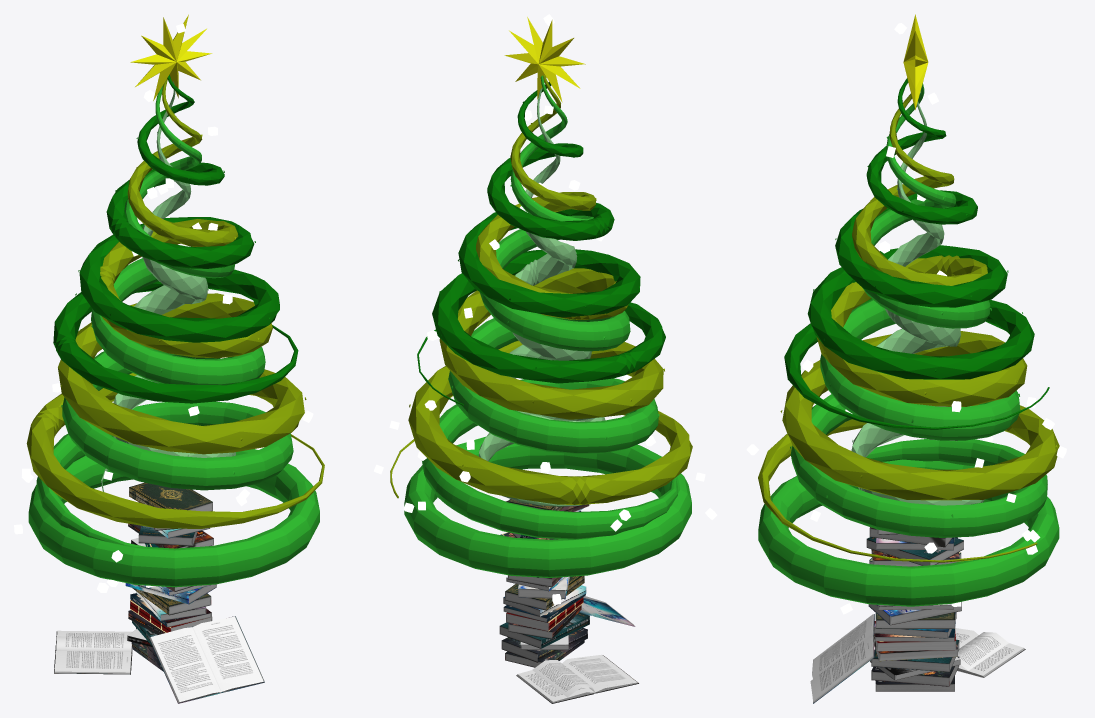
The model's file is Egle1.gltf.
3 renders of one model, left to right at view 1: azimuth 30°, elevation 25°; view 2: azimuth 150°, elevation 25°; view 3: azimuth 270°, elevation 25°, orthographic. The views are drawn at different scales.
Visible parts, largest first — view 1: jolka s igruskami.001, jolka s igruskami.002, jolka s igruskami.003, BookO1, jolka s igruskami.004, BookO2, Zvaigzde, Book9, Book10, Book18, Book11, Book5 (+2 smaller); view 2: jolka s igruskami.001, jolka s igruskami.002, jolka s igruskami.003, jolka s igruskami.004, BookO2, Zvaigzde, Book19, Book2, Book10, Book5, BookO1, Book15 (+2 smaller); view 3: jolka s igruskami.001, jolka s igruskami.002, jolka s igruskami.003, jolka s igruskami.004, BookO1, BookO2, Zvaigzde, Book18, Book19, Book2, Book11, Book10 (+7 smaller).
Boxes of the visible parts, left/top/right/bottom form: jolka s igruskami.001: left=28, top=86, right=319, bottom=587; jolka s igruskami.002: left=26, top=78, right=324, bottom=528; jolka s igruskami.003: left=53, top=74, right=298, bottom=403; BookO1: left=148, top=616, right=264, bottom=703; jolka s igruskami.004: left=101, top=81, right=235, bottom=491; BookO2: left=54, top=630, right=132, bottom=674; Zvaigzde: left=130, top=14, right=212, bottom=100; Book9: left=129, top=482, right=212, bottom=511; Book10: left=132, top=588, right=211, bottom=615; Book18: left=138, top=526, right=197, bottom=545; Book11: left=125, top=583, right=216, bottom=604; Book5: left=130, top=600, right=212, bottom=632; jolka s igruskami.001: left=404, top=75, right=691, bottom=577; jolka s igruskami.002: left=390, top=75, right=692, bottom=504; jolka s igruskami.003: left=417, top=82, right=665, bottom=405; jolka s igruskami.004: left=478, top=88, right=605, bottom=506; BookO2: left=516, top=654, right=638, bottom=703; Zvaigzde: left=504, top=17, right=585, bottom=102; Book19: left=499, top=612, right=589, bottom=648; Book2: left=501, top=628, right=587, bottom=662; Book10: left=505, top=575, right=584, bottom=610; Book5: left=506, top=597, right=583, bottom=631; BookO1: left=579, top=596, right=635, bottom=626; Book15: left=508, top=605, right=581, bottom=639; jolka s igruskami.001: left=758, top=83, right=1059, bottom=606; jolka s igruskami.002: left=758, top=93, right=1059, bottom=562; jolka s igruskami.003: left=784, top=78, right=1049, bottom=429; jolka s igruskami.004: left=851, top=101, right=984, bottom=505; BookO1: left=810, top=614, right=874, bottom=703; BookO2: left=955, top=628, right=1025, bottom=677; Zvaigzde: left=903, top=14, right=928, bottom=109; Book18: left=866, top=537, right=963, bottom=565; Book19: left=871, top=639, right=959, bottom=672; Book2: left=871, top=656, right=959, bottom=686; Book11: left=868, top=601, right=961, bottom=625; Book10: left=875, top=612, right=955, bottom=628.
Bounding box in the file's own units: 77.67 × 152 × 69.15.
Materials: 7 (1 with a texture image).
